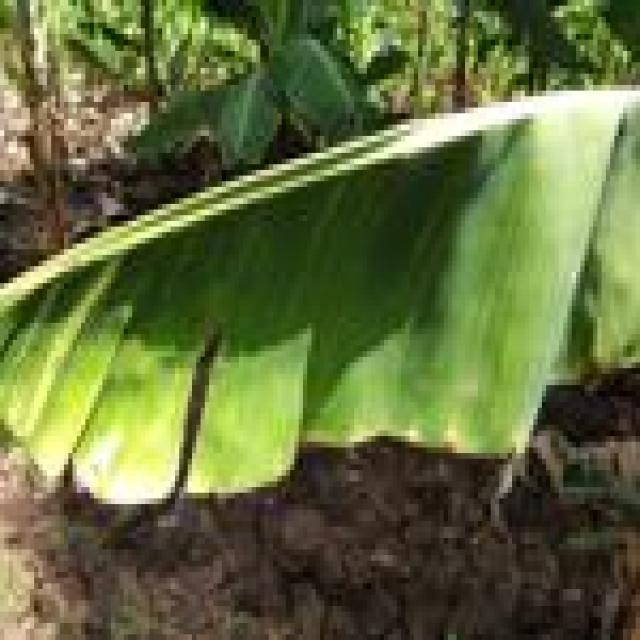Early_rust: (0, 164, 585, 574)
